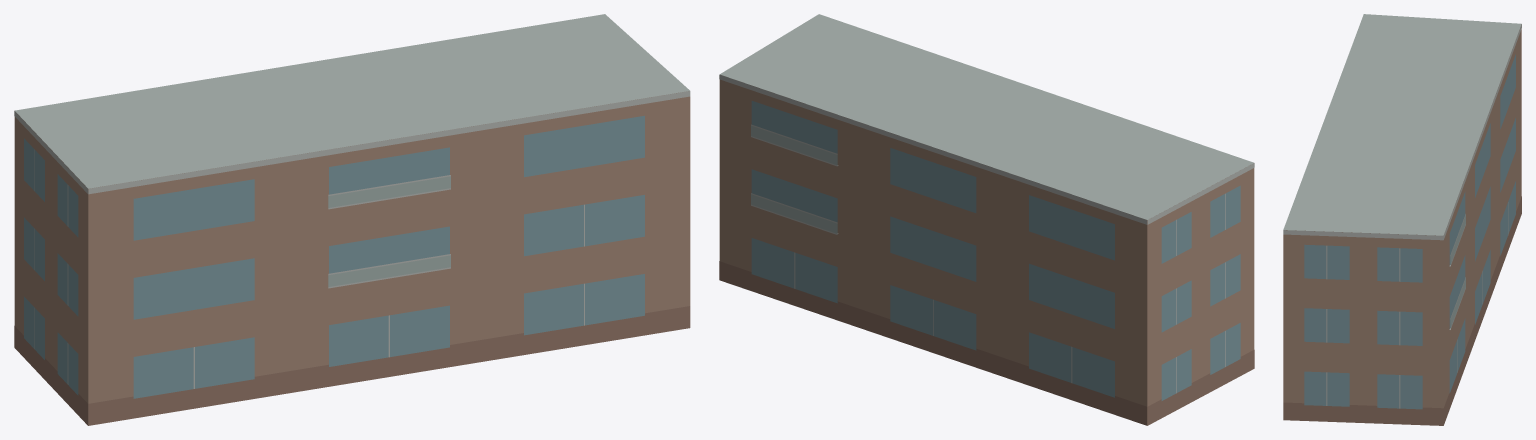
The model's file is survey-upis-32913958.glb.
The picture shows the model from 3 angles, left to right: view 1: azimuth 30°, elevation 25°; view 2: azimuth 150°, elevation 25°; view 3: azimuth 270°, elevation 25°; orthographic projection. The views are drawn at different scales.
Visible parts, largest first — view 1: survey-upis-32913958.tmp; view 2: survey-upis-32913958.tmp; view 3: survey-upis-32913958.tmp.
Boxes of the visible parts, x1,y1,x2,y2 form: survey-upis-32913958.tmp: [14, 14, 690, 425]; survey-upis-32913958.tmp: [719, 14, 1254, 425]; survey-upis-32913958.tmp: [1283, 14, 1521, 425].
Size of the model in its own units: 25.51 by 10.2 by 11.6.
